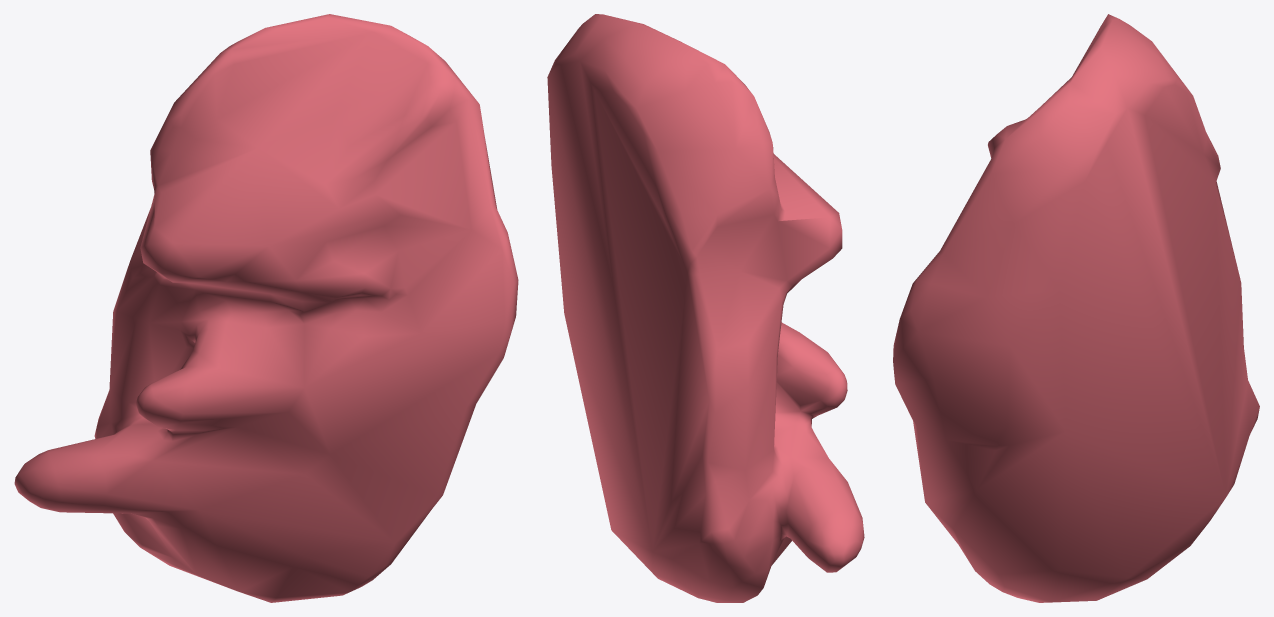
3 renders of one model, left to right at view 1: azimuth 30°, elevation 25°; view 2: azimuth 150°, elevation 25°; view 3: azimuth 270°, elevation 25°, orthographic. The views are drawn at different scales.
Parts seen in each view (by area): view 1: ZA_ed9f8d75302870a2; view 2: ZA_ed9f8d75302870a2; view 3: ZA_ed9f8d75302870a2.
Boxes of the visible parts, bbox=[...] form: ZA_ed9f8d75302870a2: bbox=[14, 14, 518, 602]; ZA_ed9f8d75302870a2: bbox=[547, 14, 864, 602]; ZA_ed9f8d75302870a2: bbox=[893, 14, 1259, 602].
Bounding box in the file's own units: 0.0201 × 0.0278 × 0.0159.
